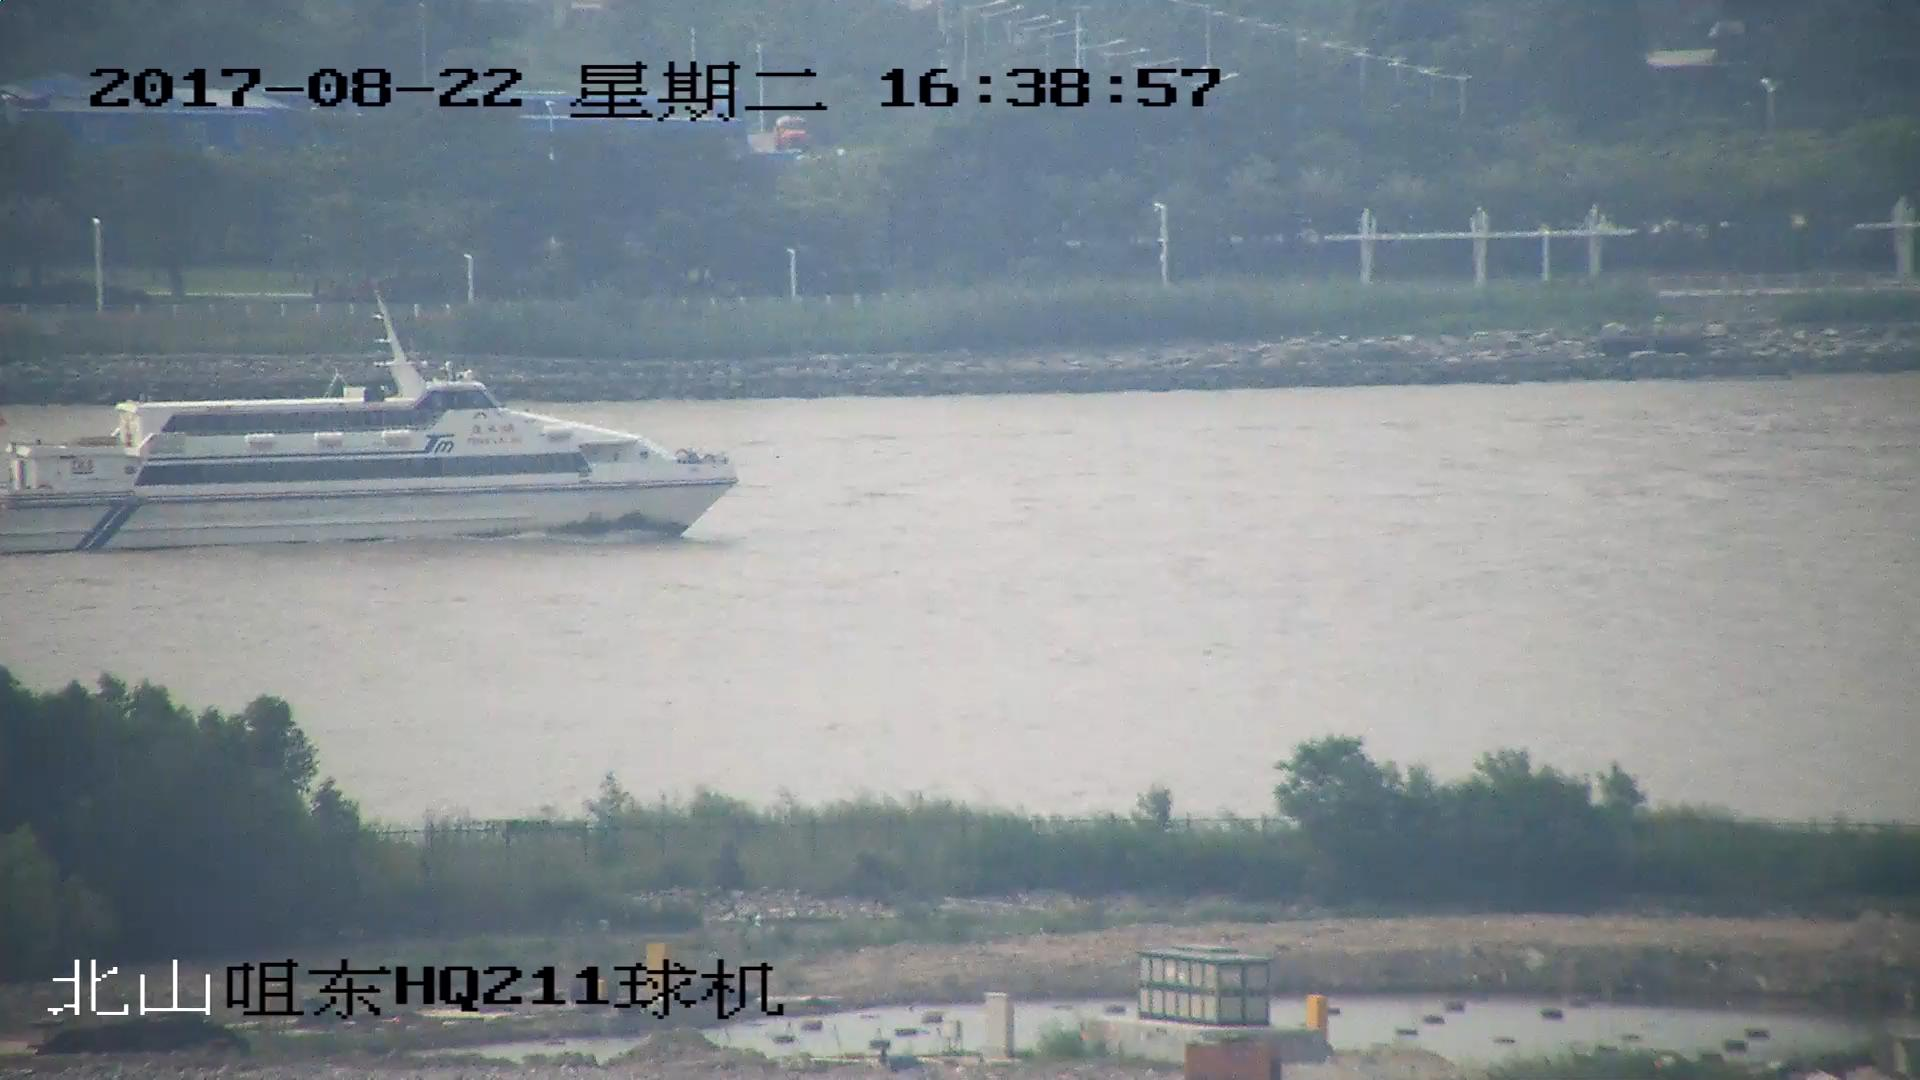passenger ship: (1, 294, 738, 547)
